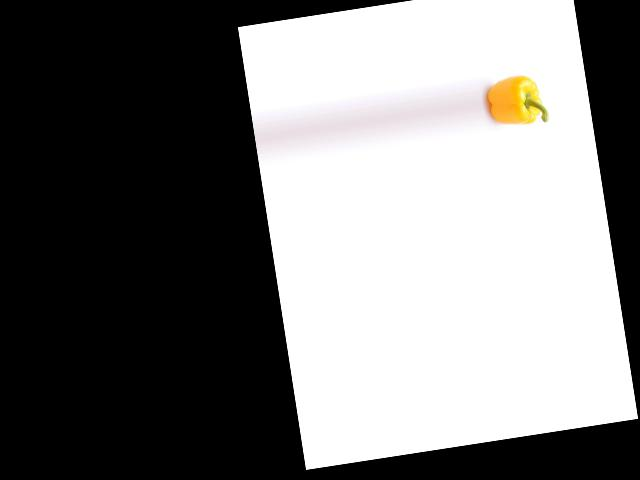bell_pepper: (483, 67, 547, 132)
